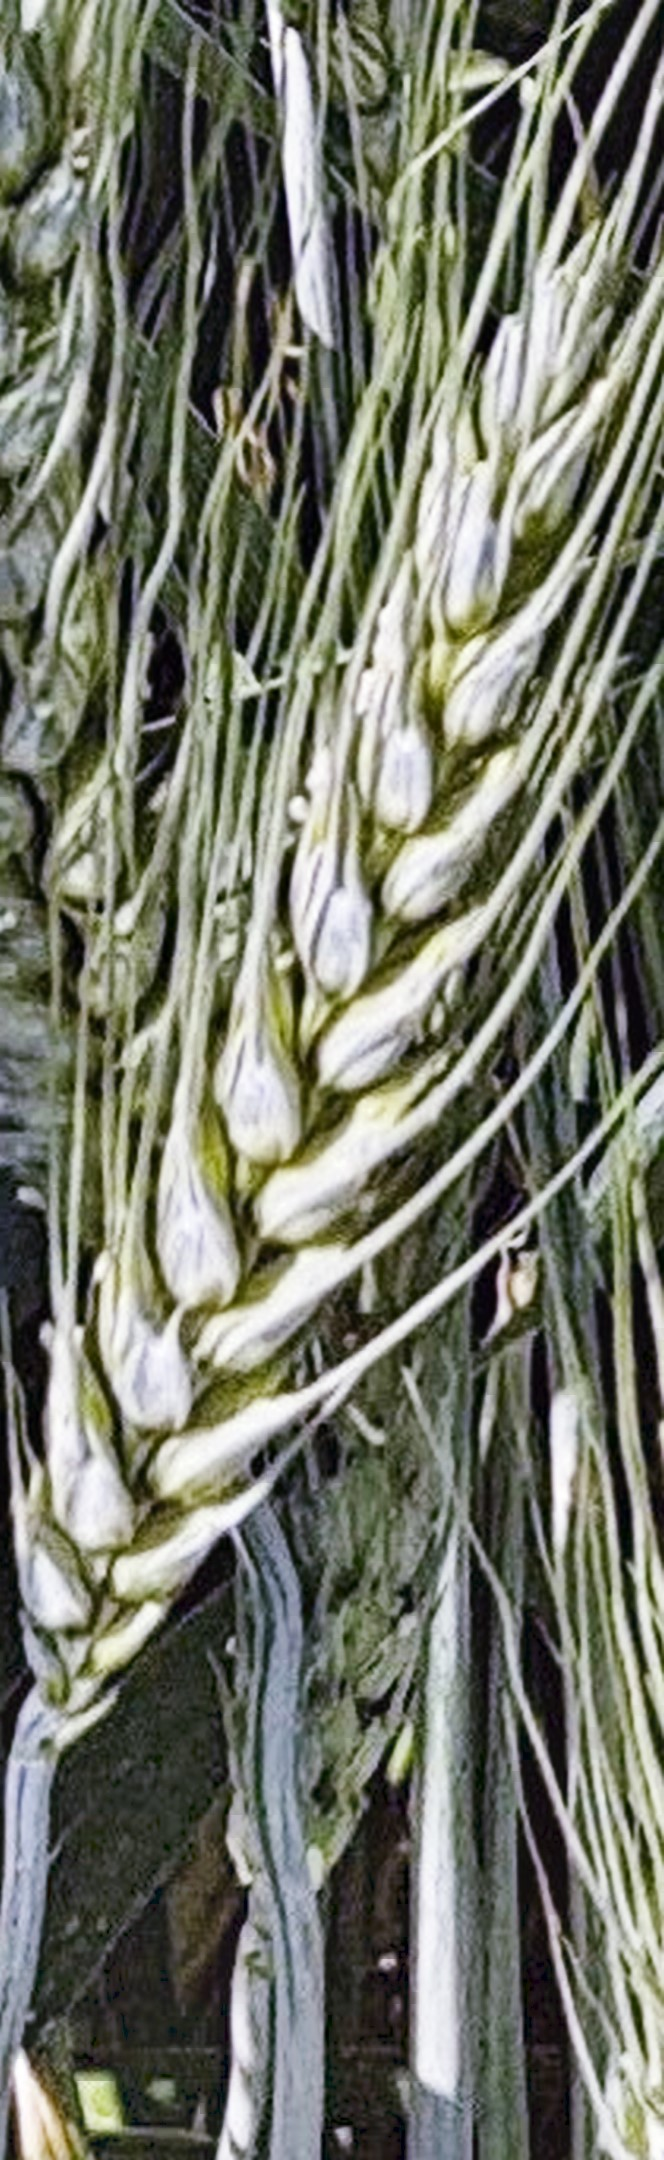Healthy Wheat: (40, 238, 638, 1683)
